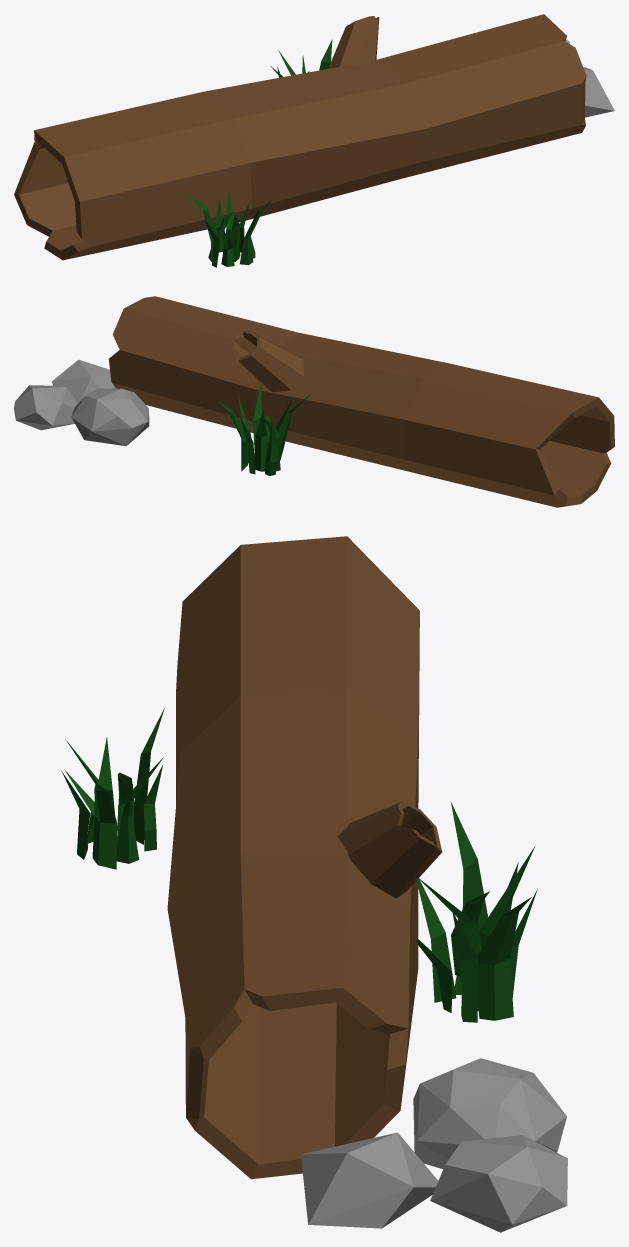
Rendered from folliage14.glb.
The picture shows the model from 3 angles, top to bottom: view 1: azimuth 30°, elevation 25°; view 2: azimuth 150°, elevation 25°; view 3: azimuth 270°, elevation 25°; orthographic projection. The views are drawn at different scales.
Parts seen in each view (by area): view 1: Cube.005; view 2: Cube.005; view 3: Cube.005.
Boxes of the visible parts, left/top/right/bottom form: Cube.005: left=14, top=14, right=614, bottom=267; Cube.005: left=14, top=296, right=614, bottom=507; Cube.005: left=61, top=536, right=567, bottom=1232.
Bounding box in the file's own units: 1.15 × 0.2473 × 0.4879.
